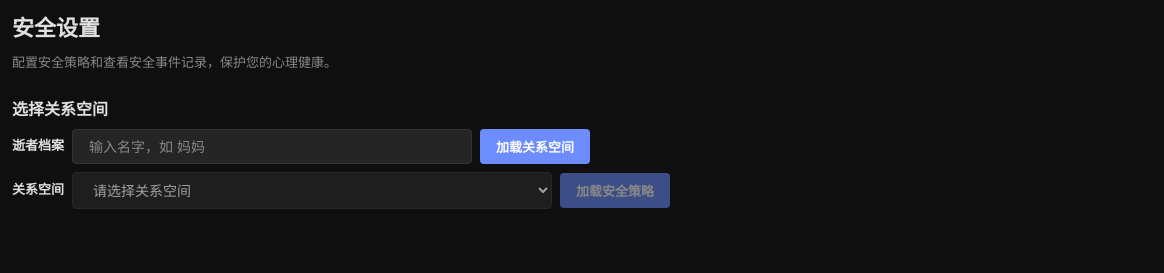
Test case: SafetySettings page › validates the profile name before loading relationship spaces
Click the button "加载关系空间" at {"x": 535, "y": 146}, box top-left (480, 128), bottom-right (590, 164)
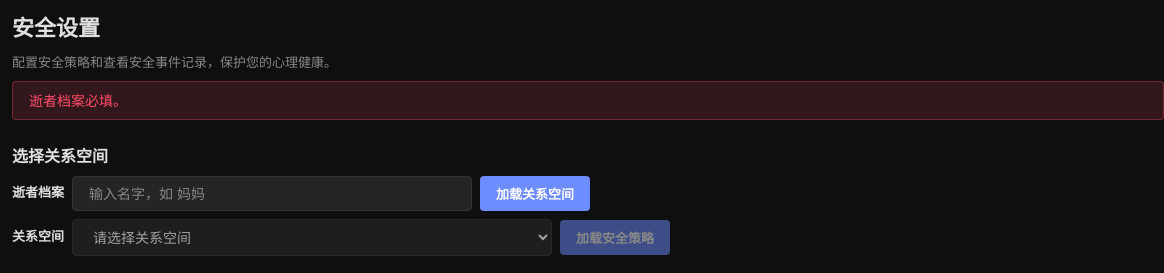
Expected: the text "逝者档案必填。" is shown, top-left (12, 80), bottom-right (1163, 120)
